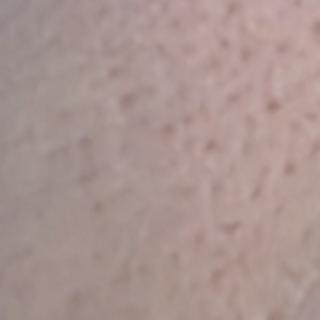Pores: (194, 10, 213, 30), (263, 97, 284, 115), (222, 217, 240, 238), (196, 100, 213, 121), (202, 57, 221, 75), (244, 183, 264, 200), (250, 217, 264, 241), (117, 95, 134, 114), (207, 179, 226, 196), (189, 229, 206, 248), (299, 222, 314, 243), (201, 137, 219, 154), (90, 197, 107, 215), (149, 42, 167, 59), (206, 267, 222, 286), (169, 251, 186, 268), (296, 45, 311, 64), (245, 115, 259, 135), (165, 16, 182, 32), (223, 1, 241, 16), (282, 157, 296, 176), (308, 137, 320, 159), (93, 6, 113, 19), (106, 65, 121, 82), (181, 44, 199, 58), (262, 308, 282, 320), (181, 136, 197, 151), (77, 135, 94, 149), (276, 40, 291, 55), (161, 123, 176, 138), (238, 46, 252, 62), (224, 292, 238, 308), (273, 6, 286, 23), (273, 200, 287, 215), (223, 163, 236, 179), (178, 86, 190, 103), (310, 18, 320, 38), (239, 140, 250, 158), (252, 15, 266, 29), (217, 35, 230, 50), (153, 2, 168, 15), (226, 92, 239, 106), (234, 22, 248, 35), (180, 114, 193, 127), (288, 123, 300, 136), (241, 81, 252, 95), (306, 110, 317, 122), (233, 311, 247, 320), (292, 1, 304, 8), (205, 319, 223, 320)
